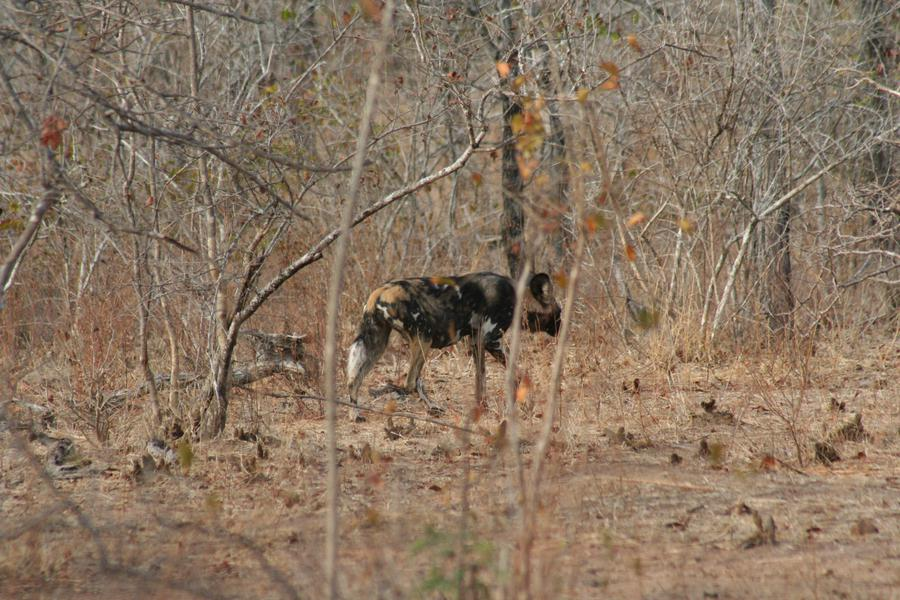wilddog: (341, 272, 560, 380)
